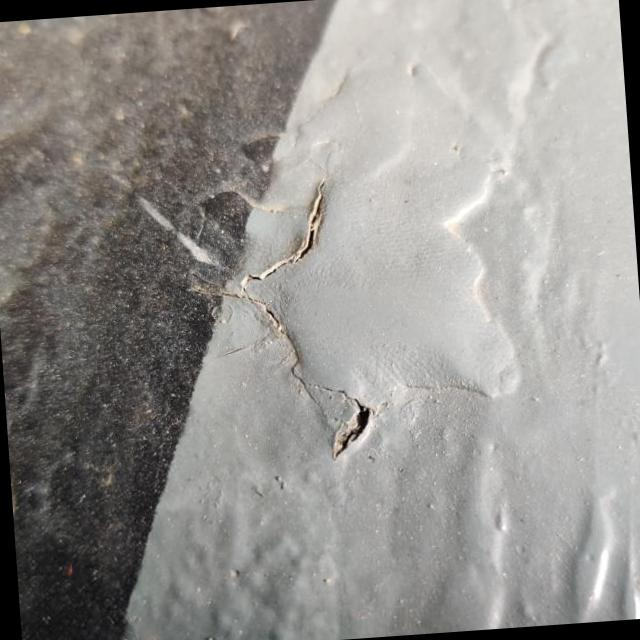Crack: (219, 190, 365, 454)
